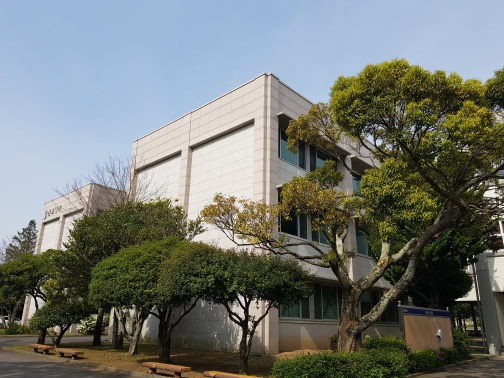College of Nursing: (129, 86, 443, 346), (19, 170, 112, 329)
